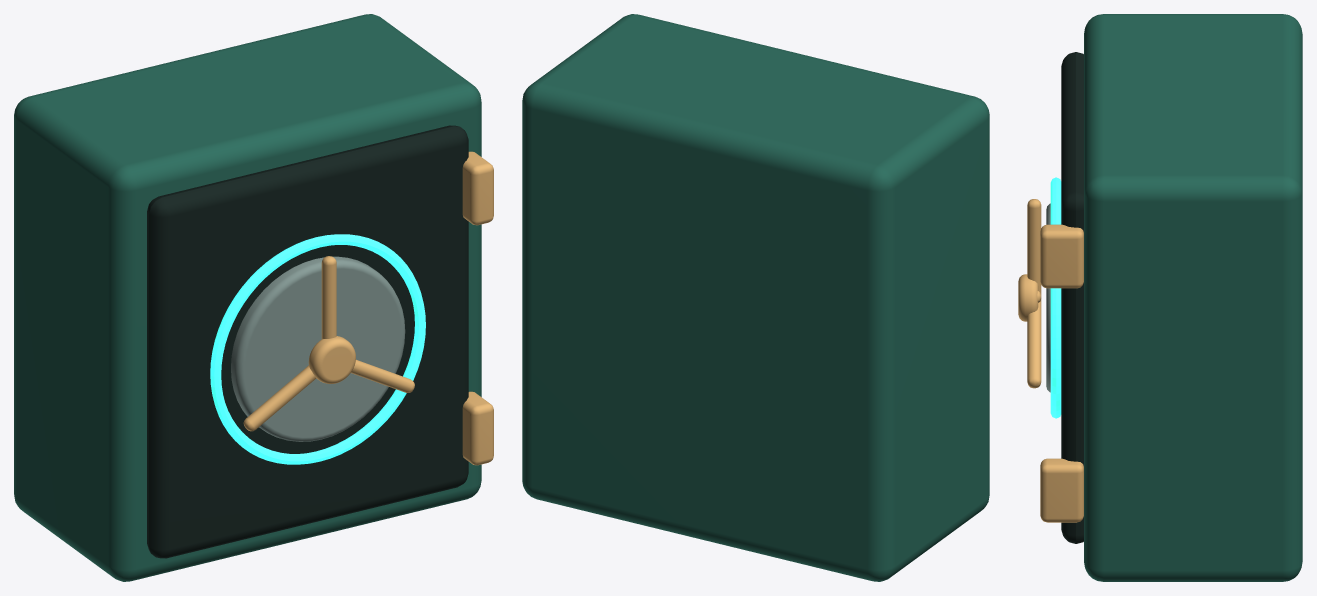
File: accounts.glb
The picture shows the model from 3 angles, left to right: view 1: azimuth 30°, elevation 25°; view 2: azimuth 150°, elevation 25°; view 3: azimuth 270°, elevation 25°; orthographic projection. The views are drawn at different scales.
Parts seen in each view (by area): view 1: Vault blank, Vault inset door, Lock disk, Door light, Door hinge, Door hinge.001, Lock hub, Vault wheel spoke.002, Vault wheel spoke, Vault wheel spoke.001; view 2: Vault blank; view 3: Vault blank, Vault inset door, Door hinge.001, Door hinge, Door light, Vault wheel spoke, Vault wheel spoke.001, Lock hub, Lock disk.
Boxes of the visible parts, box(x1,y1,x2,y2) form: Vault blank: box(14, 14, 481, 581); Vault inset door: box(147, 125, 468, 558); Lock disk: box(231, 256, 405, 441); Door light: box(210, 234, 425, 464); Door hinge: box(462, 391, 493, 465); Door hinge.001: box(462, 151, 493, 225); Lock hub: box(308, 336, 355, 383); Vault wheel spoke.002: box(243, 365, 316, 431); Vault wheel spoke: box(321, 256, 336, 338); Vault wheel spoke.001: box(351, 359, 414, 392); Vault blank: box(522, 14, 989, 581); Vault blank: box(1084, 14, 1302, 581); Vault inset door: box(1061, 52, 1083, 543); Door hinge.001: box(1040, 224, 1083, 288); Door hinge: box(1040, 458, 1083, 522); Door light: box(1050, 177, 1061, 418); Vault wheel spoke: box(1027, 199, 1041, 294); Vault wheel spoke.001: box(1027, 299, 1041, 388); Lock hub: box(1018, 274, 1038, 321); Lock disk: box(1046, 203, 1050, 392).
Size of the model in its own units: 2.1 by 2.25 by 1.43.
